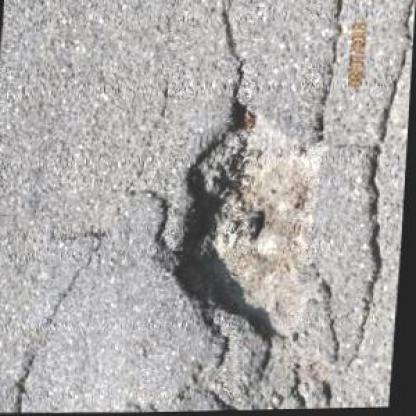pothole: (162, 94, 332, 347)
